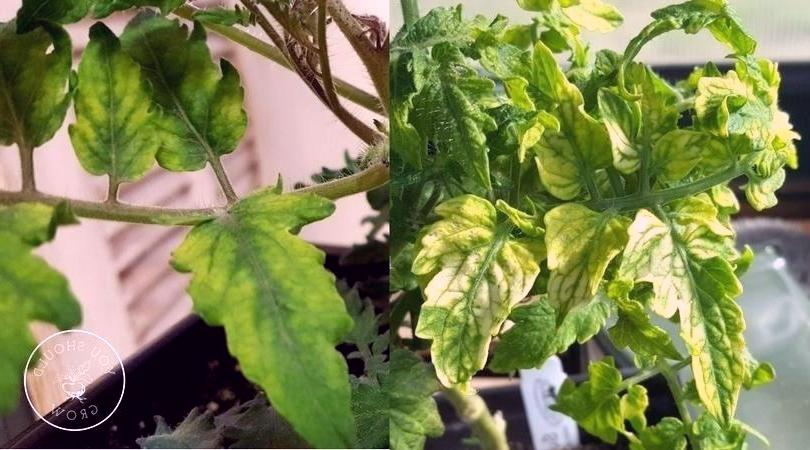Tomato leaf yellow virus: (161, 175, 370, 441), (614, 193, 756, 427), (415, 197, 537, 397), (111, 13, 248, 190), (523, 207, 634, 346), (72, 28, 159, 188), (524, 54, 606, 218), (600, 74, 705, 193), (544, 363, 652, 443)
